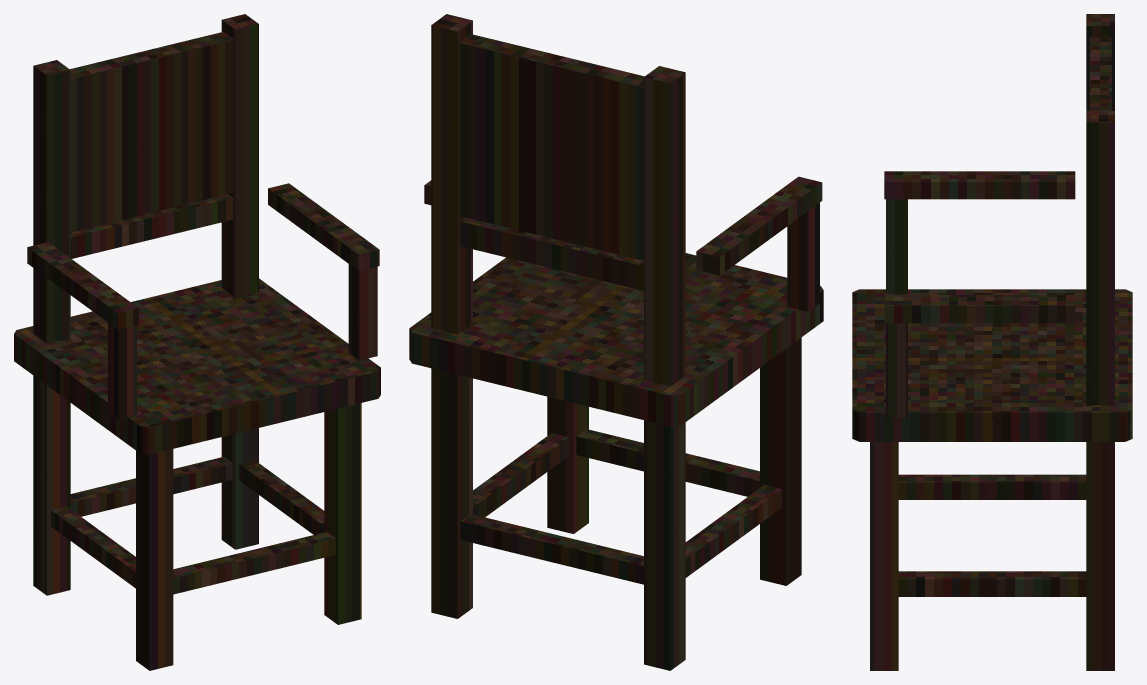
The model's file is OfficeChair.glb.
The picture shows the model from 3 angles, left to right: view 1: azimuth 30°, elevation 25°; view 2: azimuth 150°, elevation 25°; view 3: azimuth 270°, elevation 25°; orthographic projection. The views are drawn at different scales.
Parts seen in each view (by area): view 1: Chair; view 2: Chair; view 3: Chair.
Boxes of the visible parts, x1,y1,x2,y2 form: Chair: (14,14,380,670); Chair: (409,14,823,670); Chair: (852,14,1132,670).
Bounding box in the file's own units: 0.5 × 0.95 × 0.44.
1 material, 1 textured.
